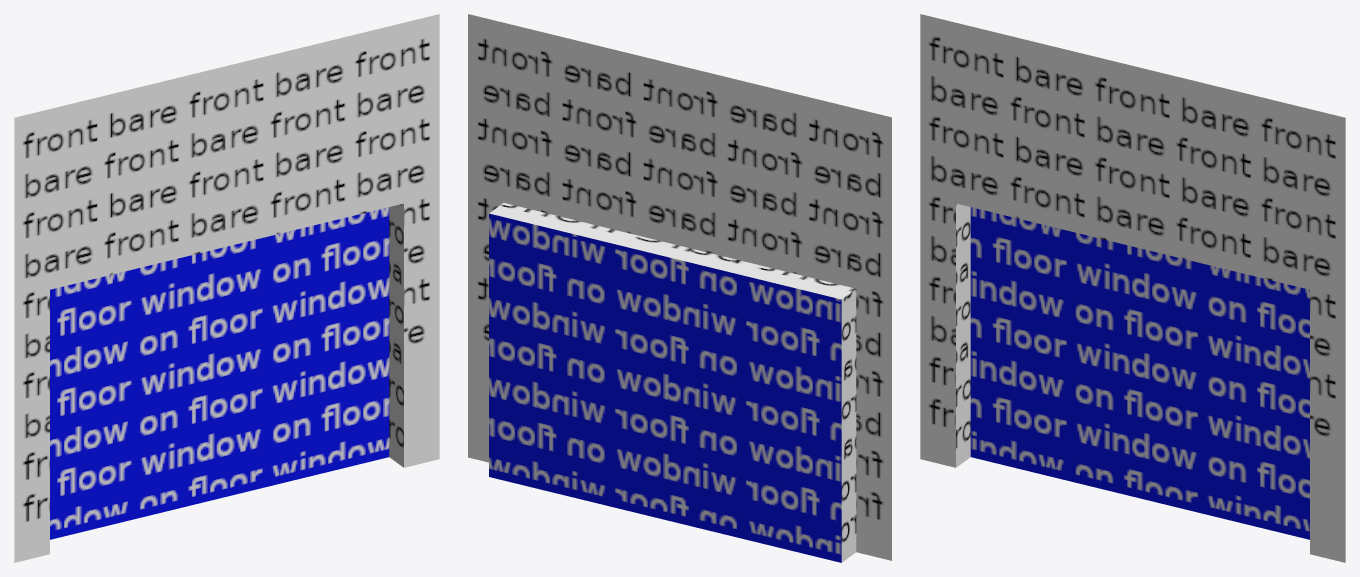
Rendered from window_on_floor.gltf.
3 renders of one model, left to right at view 1: azimuth 30°, elevation 25°; view 2: azimuth 150°, elevation 25°; view 3: azimuth 330°, elevation 25°, orthographic.
Visible parts, largest first — view 1: window_on_floor; view 2: window_on_floor; view 3: window_on_floor.
Part boxes in pixels (box(x1,y1,x2,y2)): window_on_floor: box(14, 14, 439, 562); window_on_floor: box(468, 14, 891, 562); window_on_floor: box(920, 14, 1345, 562).
Size of the model in its own units: 5 by 5 by 0.3.
2 materials, 2 textured.
